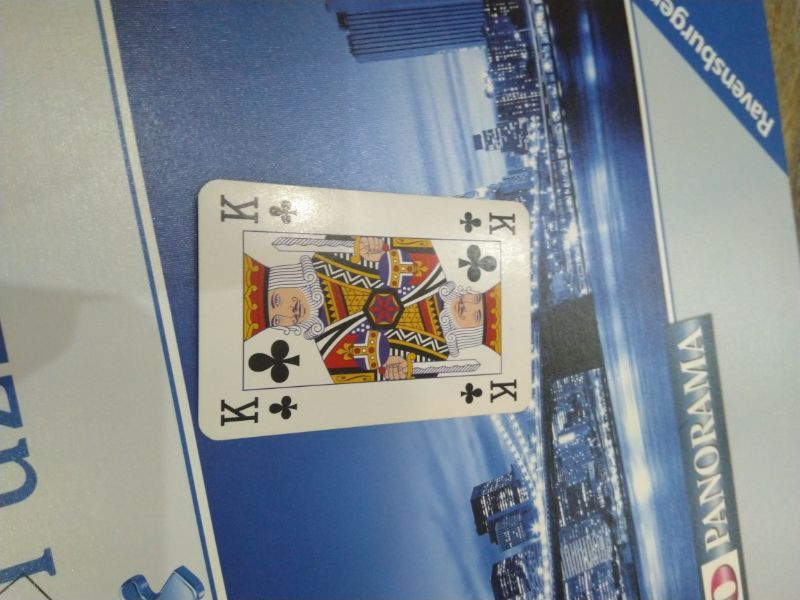Kc: (215, 192, 304, 229), (215, 392, 301, 426), (456, 208, 520, 240), (458, 376, 523, 407)
